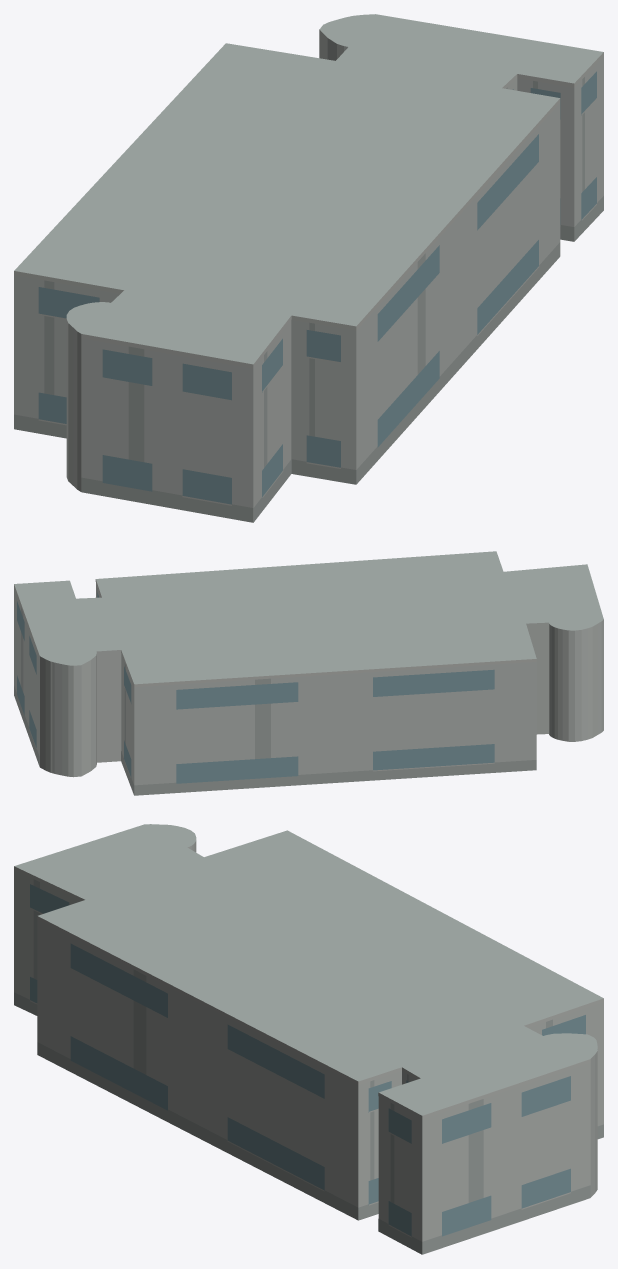
Rendered from survey-upis-32644166.glb.
3 views of the same model, one above another, from view 1: azimuth 30°, elevation 25°; view 2: azimuth 150°, elevation 25°; view 3: azimuth 270°, elevation 25° (orthographic). The views are drawn at different scales.
Parts seen in each view (by area): view 1: survey-upis-32644166.tmp; view 2: survey-upis-32644166.tmp; view 3: survey-upis-32644166.tmp.
Part boxes in pixels (x1,y1,x2,y2): survey-upis-32644166.tmp: (14,14,603,522); survey-upis-32644166.tmp: (14,551,603,795); survey-upis-32644166.tmp: (14,824,603,1254).
Size of the model in its own units: 41.19 by 9.15 by 35.2.
